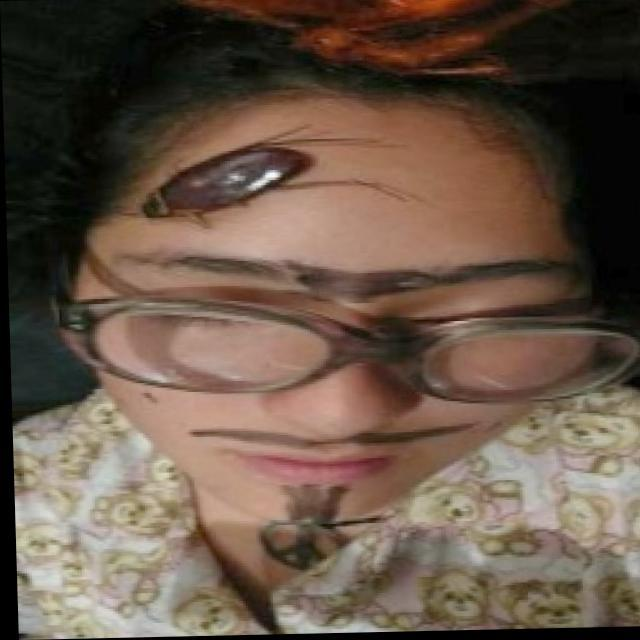cockroach: (133, 110, 331, 250)
